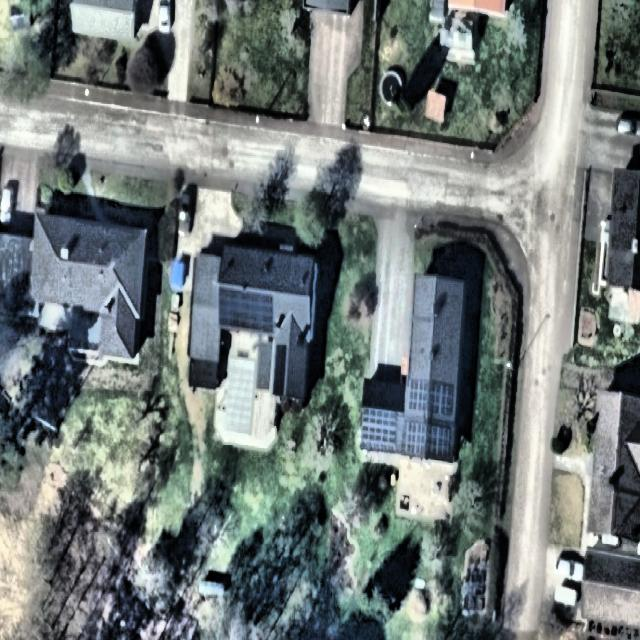roof_pv: (220, 287, 276, 336), (362, 409, 401, 452), (402, 418, 429, 456), (431, 380, 455, 421), (428, 425, 453, 460), (409, 379, 429, 412)
